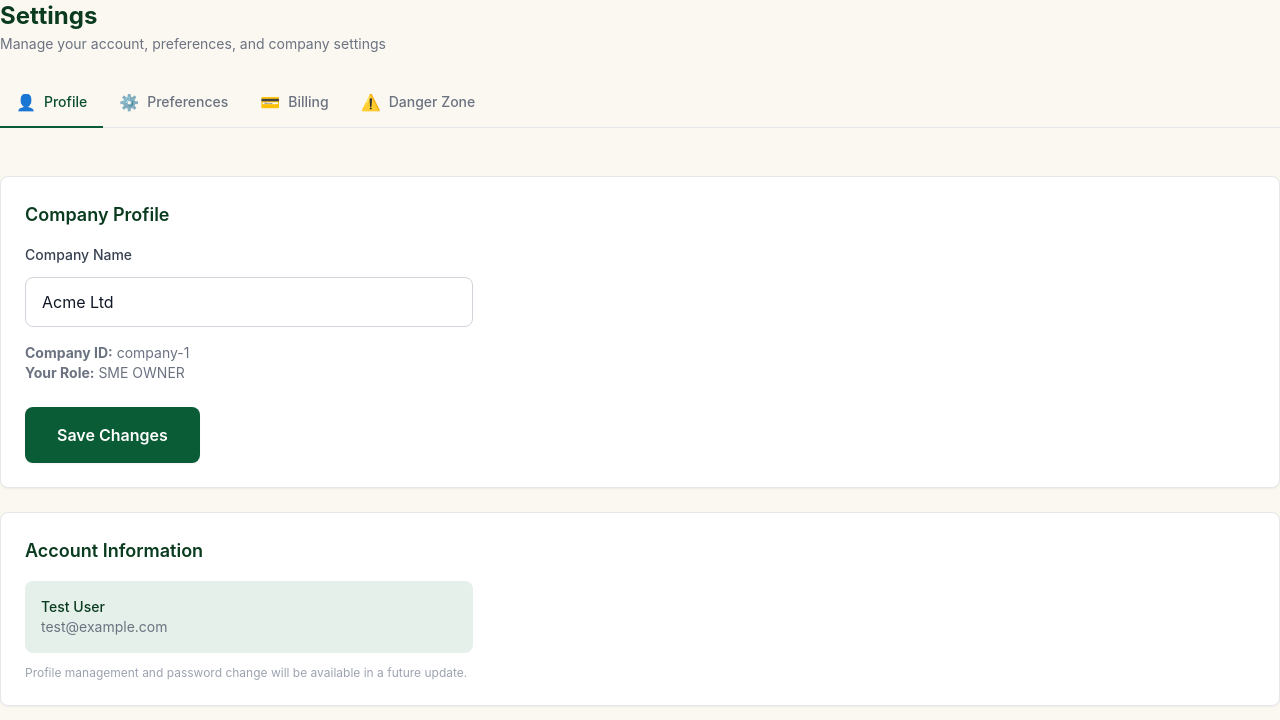
Test: Settings Page › opens confirmation modal when "Clear Data" is clicked
Click the text "Danger Zone".
click(432, 102)  # box [389,92,475,112]
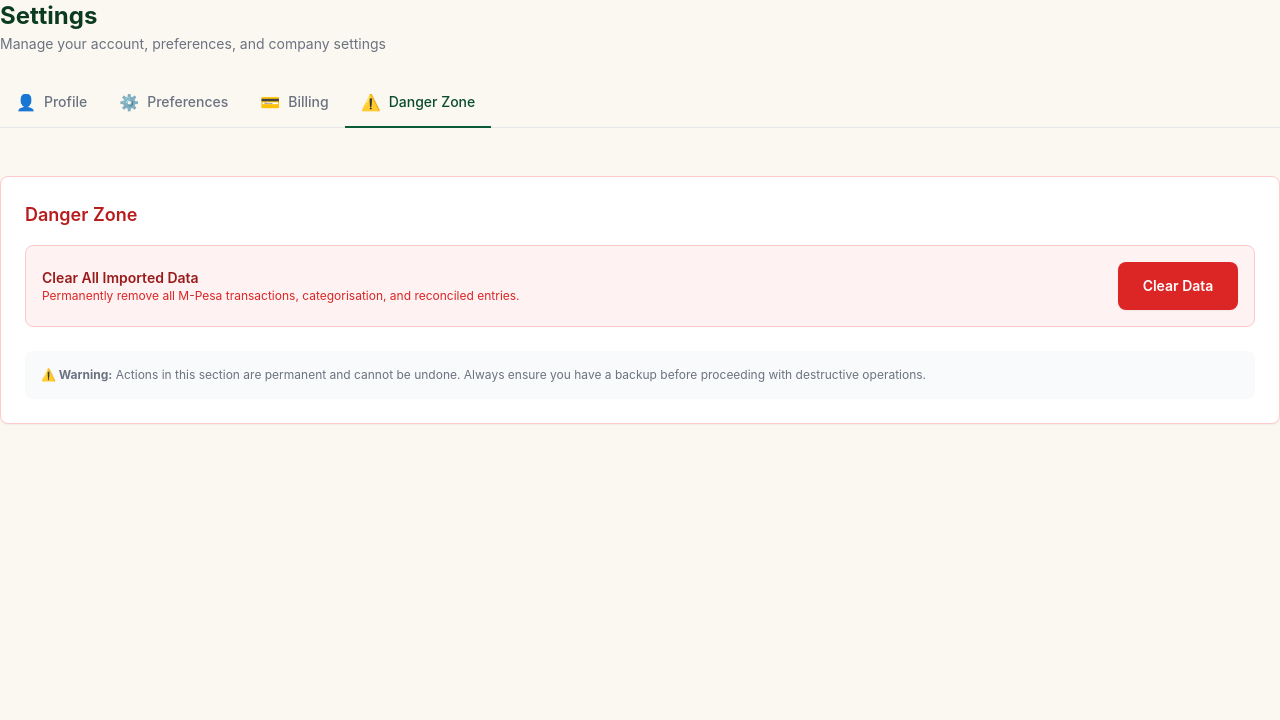
Click the button "Clear Data".
click(1178, 286)  # box [1118,262,1238,310]
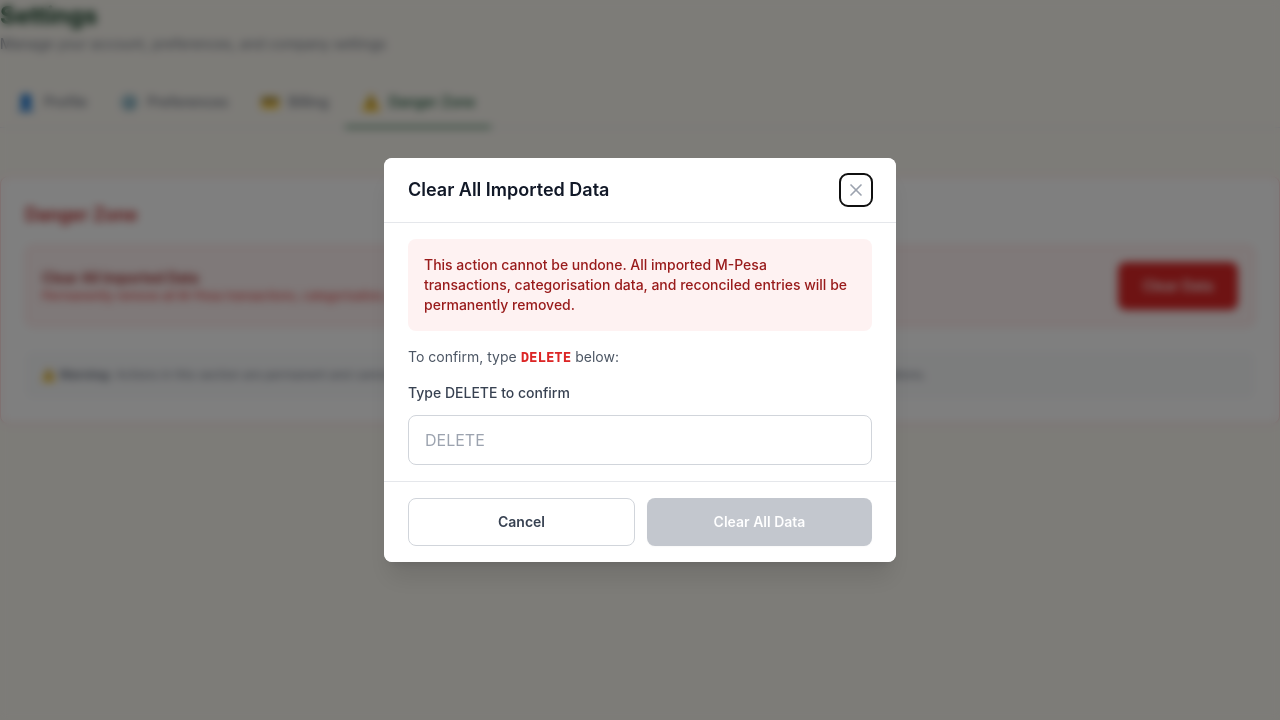
Now the heading "Clear All Imported Data" is shown, box [408,176,609,204]
Now the text "Type DELETE to confirm" is shown, box [408,384,570,401]
